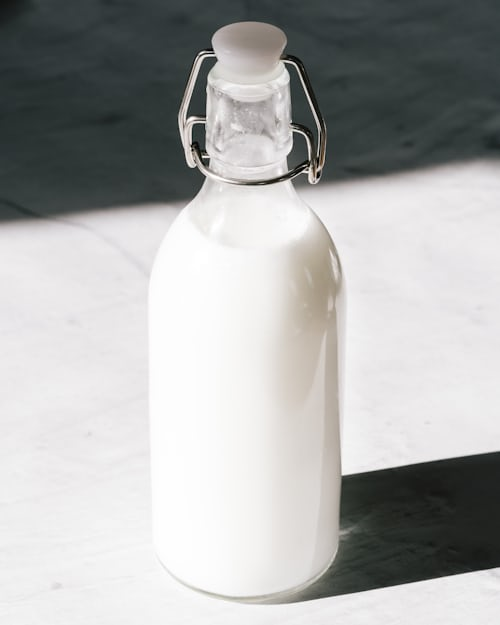Bottle: (140, 14, 363, 604)
